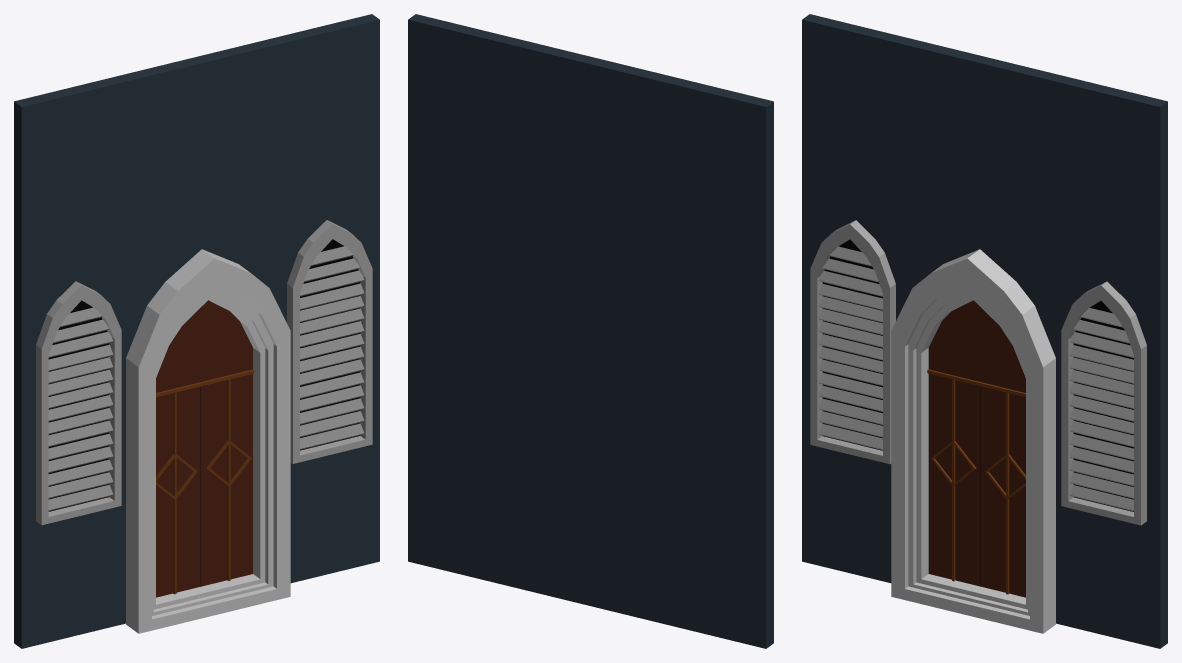
Rendered from front_tower_door_wall.glb.
The picture shows the model from 3 angles, left to right: view 1: azimuth 30°, elevation 25°; view 2: azimuth 150°, elevation 25°; view 3: azimuth 330°, elevation 25°; orthographic projection.
Parts seen in each view (by area): view 1: Cube.064, Cube.002, Cube.001, Cube.029, Cube.012, Cube.003, Cube.010, Cube.028, Cube.011, Cube.008, Cube.009, Cube.037 (+27 smaller); view 2: Cube.064; view 3: Cube.064, Cube.002, Cube.001, Cube.012, Cube.029, Cube.003, Cube.010, Cube.028, Cube.011, Cube.009, Cube.008, Cube.020 (+27 smaller).
Part boxes in pixels (box(x1,y1,x2,y2)): Cube.064: box(14, 14, 379, 648); Cube.002: box(156, 300, 252, 597); Cube.001: box(126, 249, 290, 633); Cube.029: box(36, 281, 121, 525); Cube.012: box(287, 220, 372, 463); Cube.003: box(153, 292, 265, 609); Cube.010: box(152, 283, 273, 615); Cube.028: box(48, 300, 109, 511); Cube.011: box(300, 239, 360, 450); Cube.008: box(173, 392, 176, 594); Cube.009: box(227, 379, 230, 580); Cube.037: box(48, 472, 113, 498); Cube.064: box(408, 14, 773, 648); Cube.064: box(802, 14, 1167, 648); Cube.002: box(929, 300, 1025, 597); Cube.001: box(891, 249, 1055, 633); Cube.012: box(1061, 281, 1146, 525); Cube.029: box(810, 220, 895, 464); Cube.003: box(916, 292, 1027, 609); Cube.010: box(908, 283, 1029, 615); Cube.028: box(822, 239, 882, 450); Cube.011: box(1073, 300, 1133, 511); Cube.009: box(1006, 392, 1009, 594); Cube.008: box(952, 379, 955, 581); Cube.020: box(1069, 472, 1133, 498).
Bounding box in the file's own units: 8.52 × 12.31 × 0.8867.
